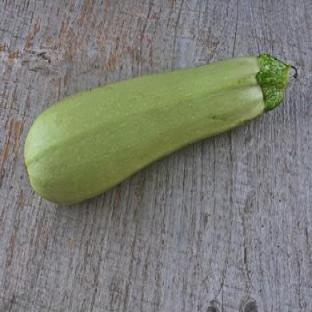Zucchini: (24, 54, 289, 202)
